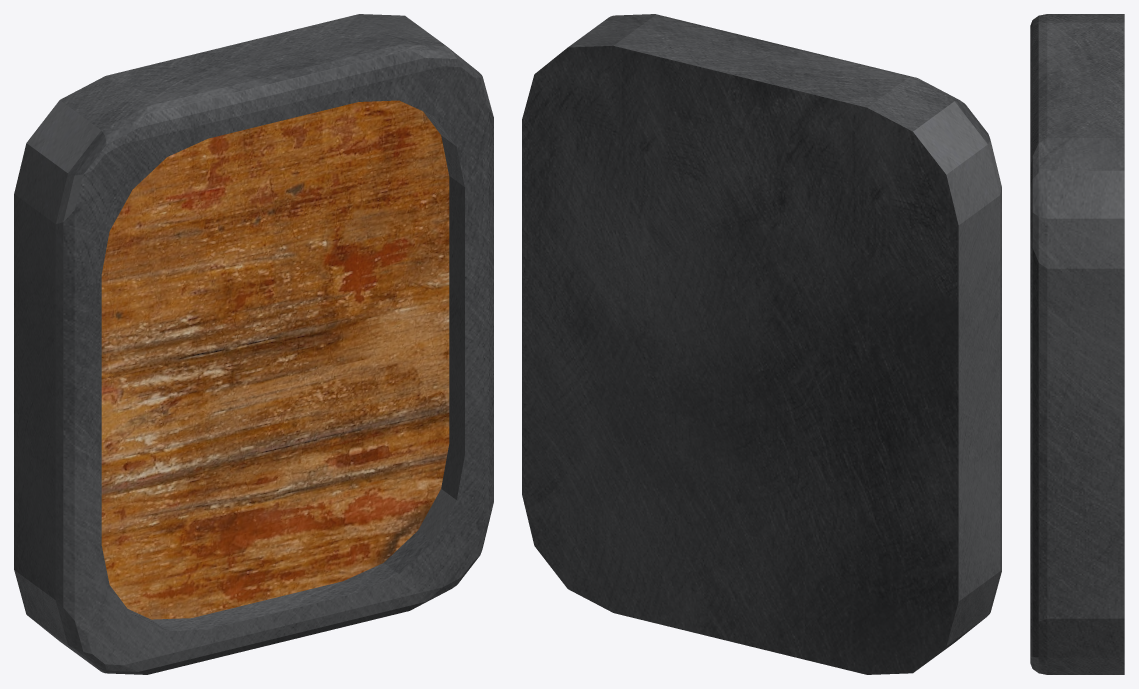
Rendered from SwitchBoard.fbx.
3 views of the same model, side by side, from view 1: azimuth 30°, elevation 25°; view 2: azimuth 150°, elevation 25°; view 3: azimuth 270°, elevation 25° (orthographic). The views are drawn at different scales.
Parts seen in each view (by area): view 1: Cube; view 2: Cube; view 3: Cube.
Part boxes in pixels (x1,y1,x2,y2): Cube: (14, 14, 493, 674); Cube: (522, 14, 1001, 674); Cube: (1030, 14, 1124, 674).
Size of the model in its own units: 313 by 389 by 63.16.
